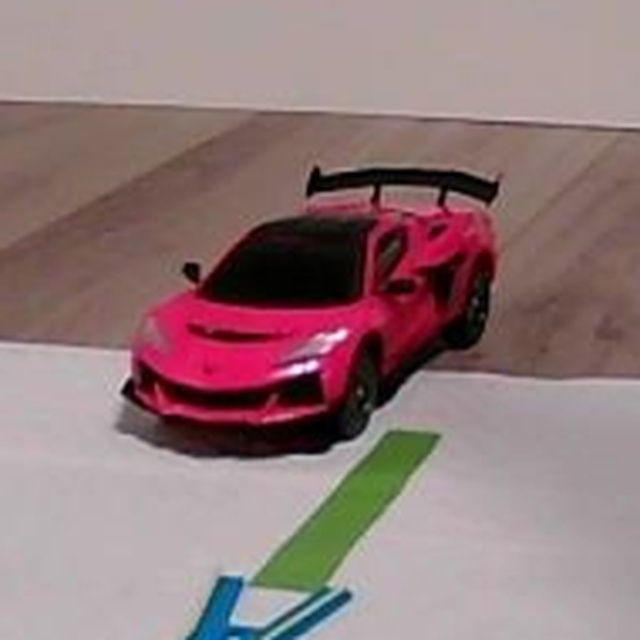tire_front_driver: (345, 350, 390, 440)
tire_rear_driver: (445, 290, 490, 345)
